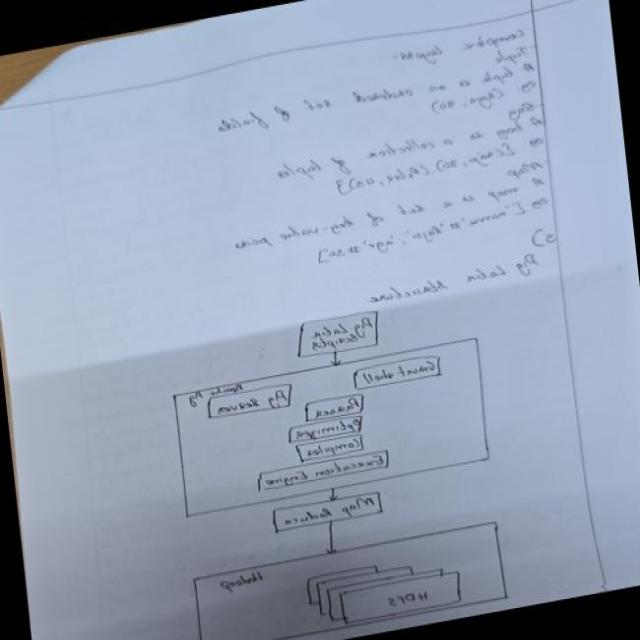Figure Detection - v3 Dataset Version2: (146, 283, 532, 640)
